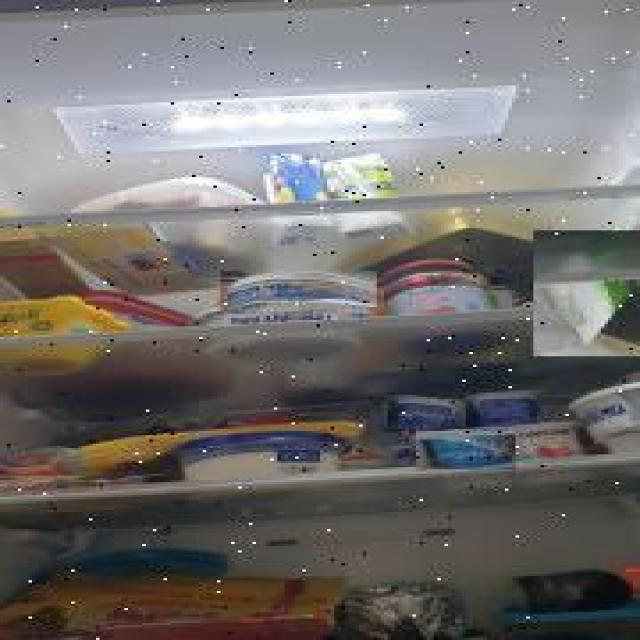cheese: (220, 272, 377, 315)
marmelade: (384, 260, 508, 358)
milk: (533, 230, 640, 356)
tortillas: (10, 571, 341, 640)
yogurt: (416, 431, 516, 469), (388, 393, 466, 428)
